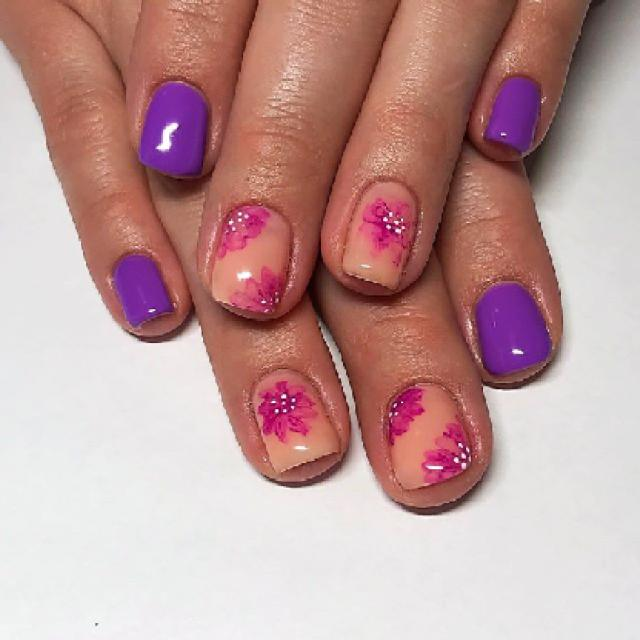Nail: (211, 202, 291, 313), (389, 385, 471, 489), (255, 374, 339, 469), (344, 180, 418, 284), (476, 281, 551, 374), (139, 80, 210, 178), (112, 254, 174, 328), (486, 78, 540, 151)
